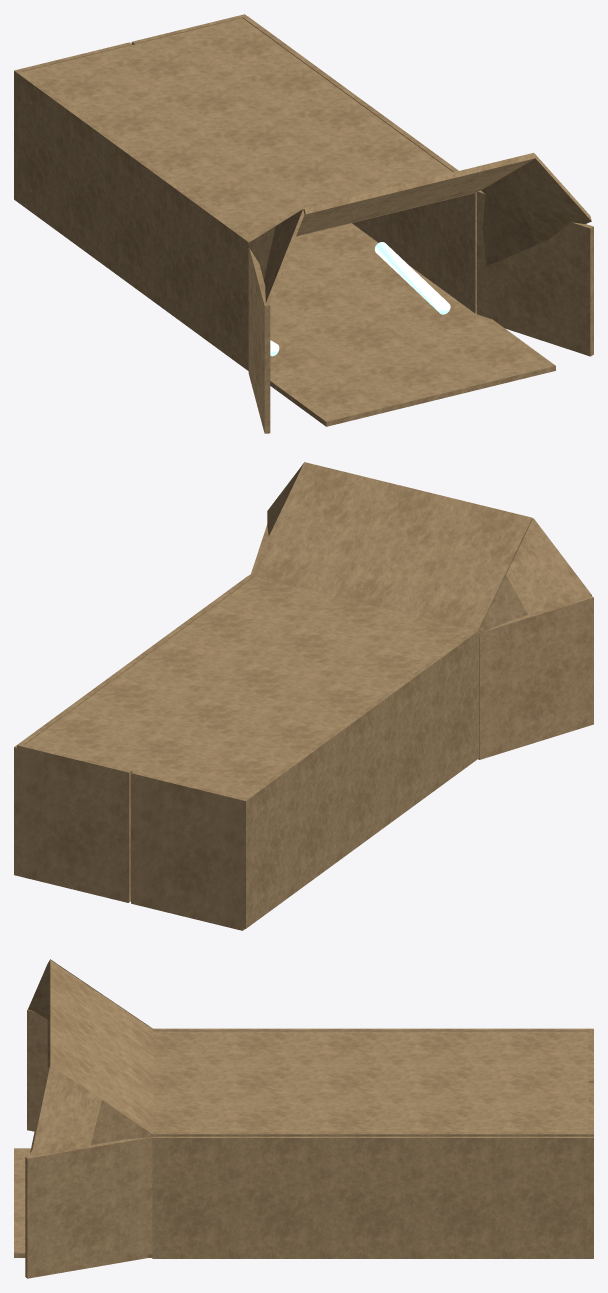
File: boxes.glb
3 views of the same model, one above another, from view 1: azimuth 30°, elevation 25°; view 2: azimuth 150°, elevation 25°; view 3: azimuth 270°, elevation 25° (orthographic). The views are drawn at different scales.
Visible parts, largest first — view 1: Cube.015, Cube.014, Cube.006, Cube.002, Cube.008, Cube.012, Cube.010, Cube.011, Cube.007, Cube.017, Rod_R; view 2: Cube.015, Cube.014, Cube.011, Cube.007, Cube.001, Cube.016, Cube.004, Cube.013, Cube.017, Cube.012; view 3: Cube.003, Cube.015, Cube.008, Cube.011, Cube.010, Cube.012, Cube.007, Cube.014, Cube.006, Cube.017.
Boxes of the visible parts, x1,y1,x2,y2 form: Cube.015: (22, 18, 474, 240); Cube.014: (14, 70, 251, 370); Cube.006: (270, 313, 555, 426); Cube.002: (269, 223, 474, 362); Cube.008: (477, 190, 593, 356); Cube.012: (240, 14, 476, 313); Cube.010: (481, 153, 591, 266); Cube.011: (296, 152, 535, 236); Cube.007: (248, 247, 270, 433); Cube.017: (248, 209, 304, 306); Rod_R: (374, 242, 450, 314); Cube.015: (25, 577, 472, 797); Cube.014: (244, 629, 479, 928); Cube.011: (250, 462, 532, 630); Cube.007: (478, 596, 593, 759); Cube.001: (14, 746, 130, 902); Cube.016: (131, 771, 246, 928); Cube.004: (131, 776, 241, 930); Cube.013: (18, 744, 131, 900); Cube.017: (479, 518, 591, 637); Cube.012: (17, 574, 254, 747); Cube.003: (152, 1136, 593, 1258); Cube.015: (153, 1031, 588, 1131); Cube.008: (25, 1137, 152, 1278); Cube.011: (47, 960, 153, 1133); Cube.010: (30, 1065, 152, 1156); Cube.012: (152, 1132, 593, 1136); Cube.007: (27, 1009, 47, 1131); Cube.014: (152, 1028, 593, 1031); Cube.006: (14, 1148, 152, 1257); Cube.017: (28, 959, 152, 1028).
Size of the model in its own units: 3.9 by 2.33 by 6.35.
Materials: 4 (1 with a texture image).
